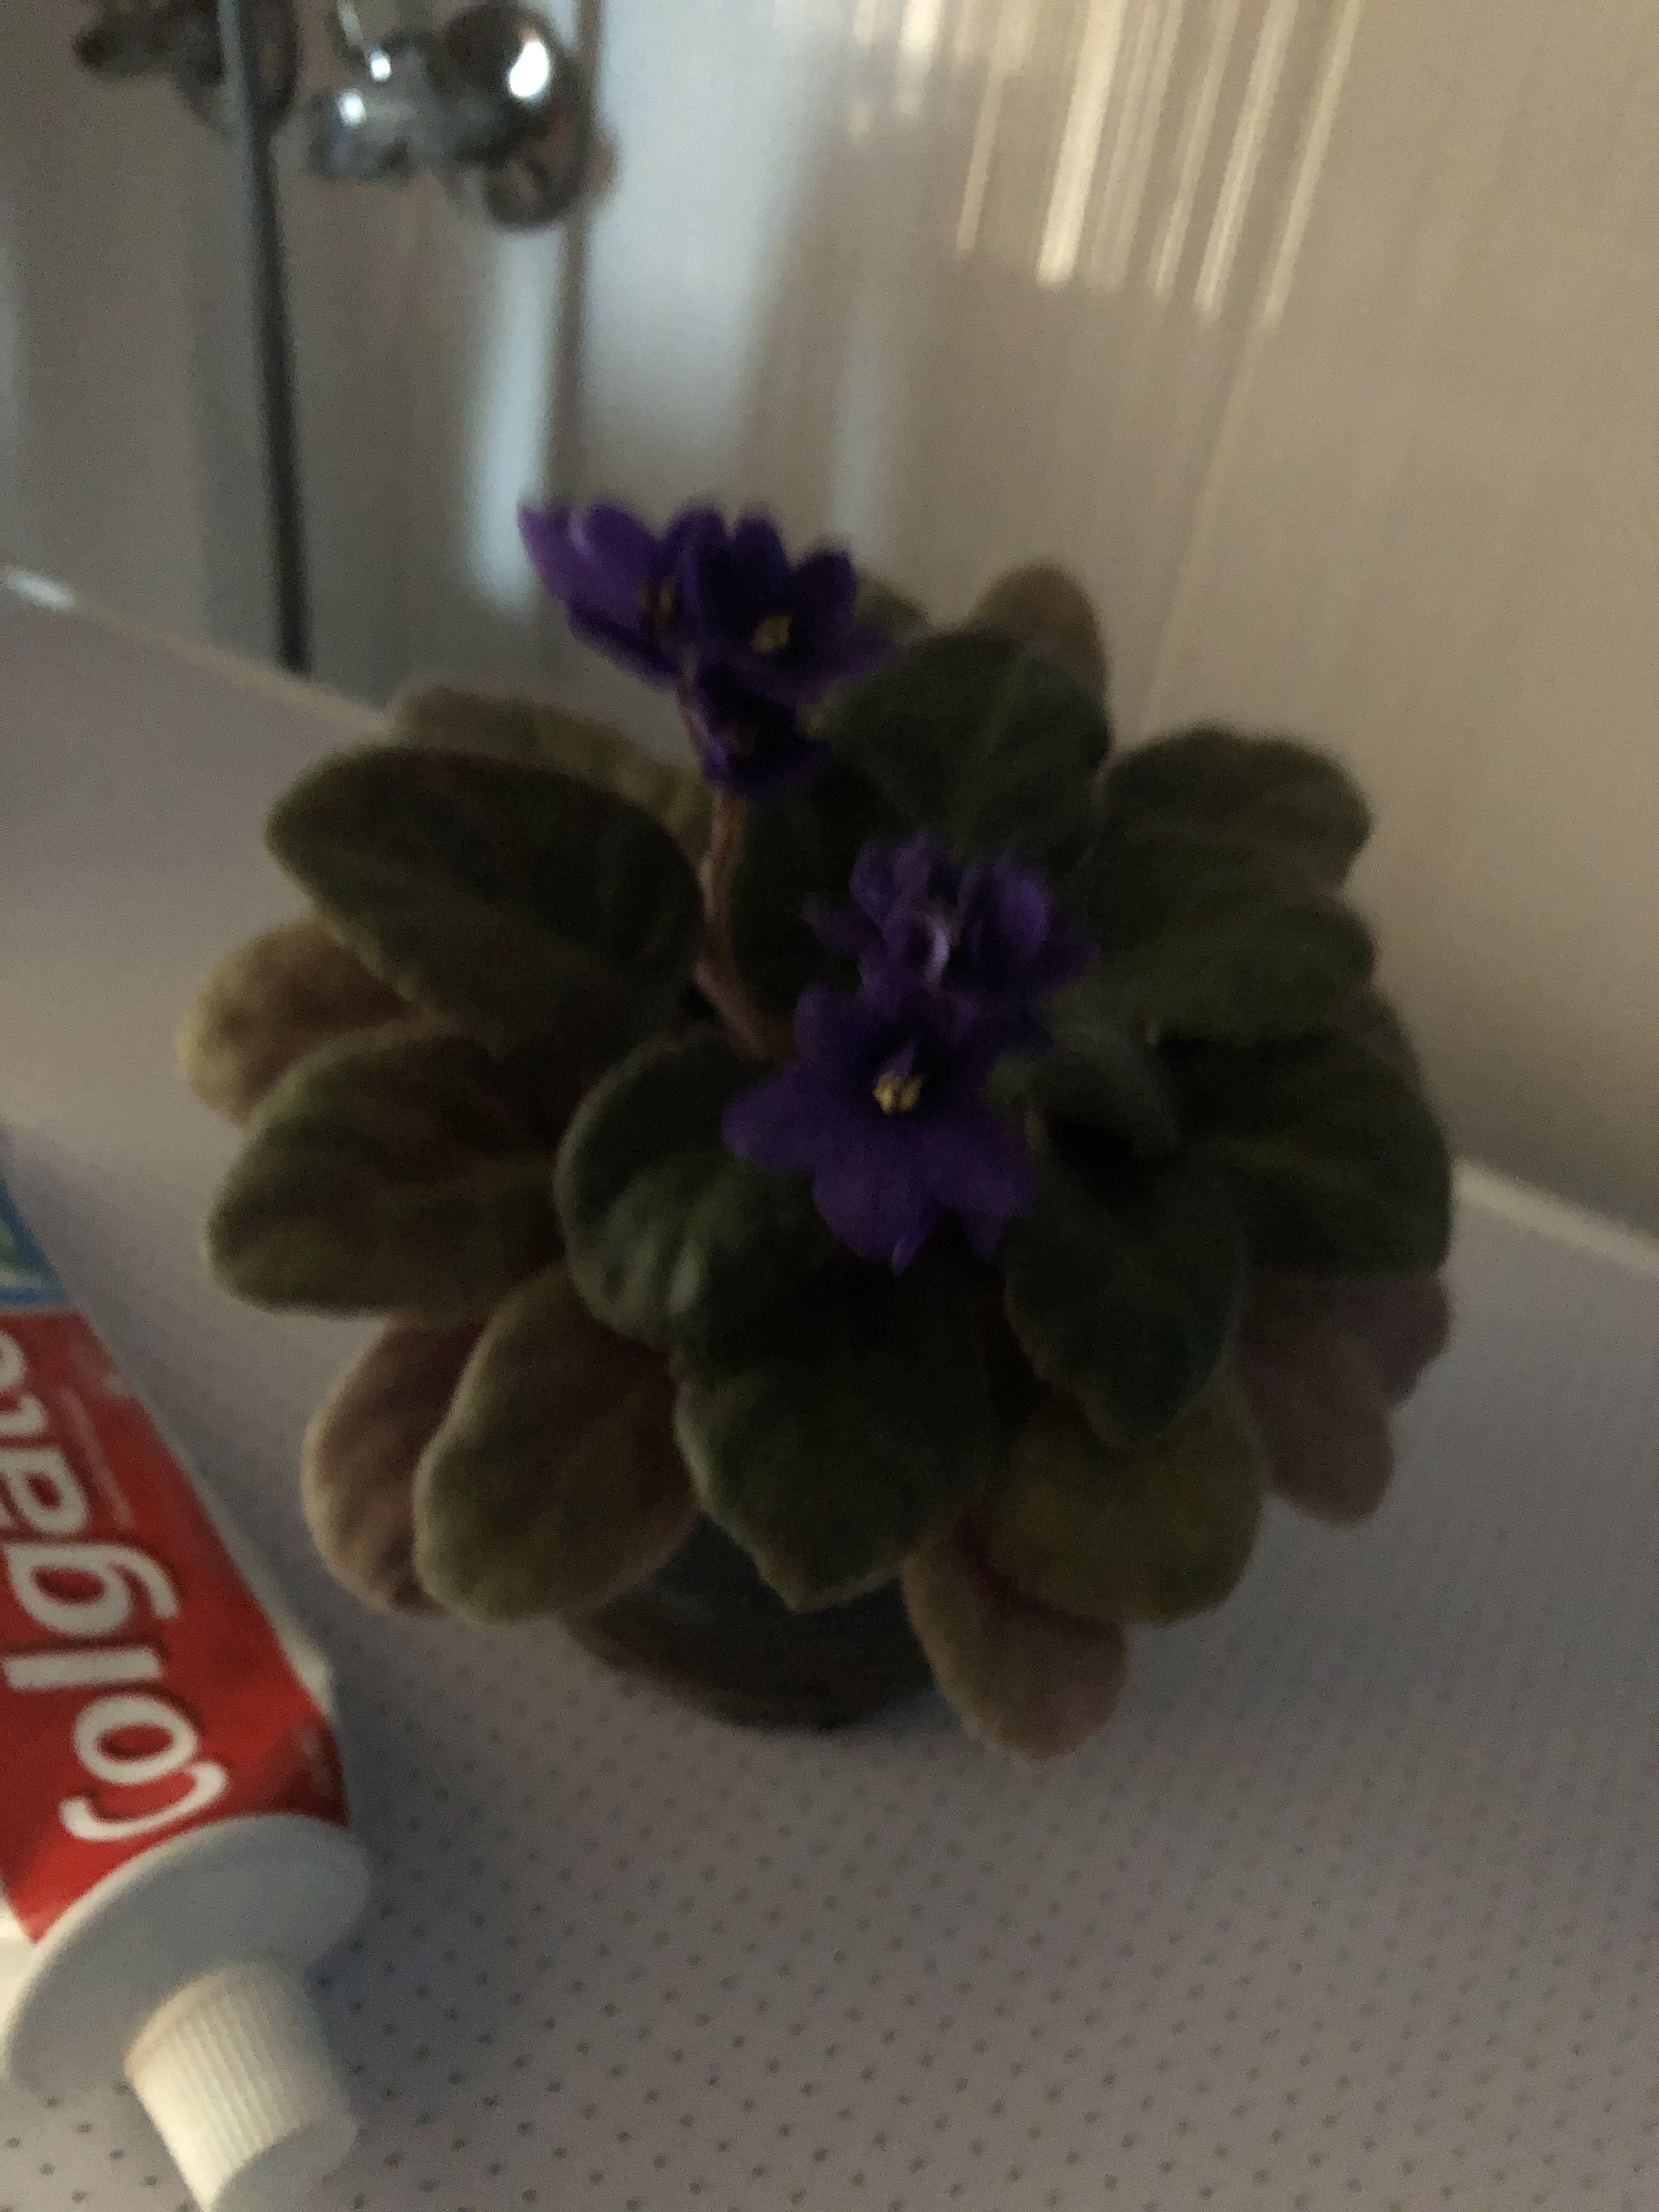ignore: (169, 394, 1509, 1764)
